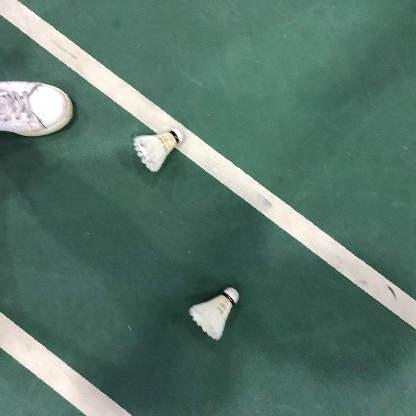ball_single: (189, 287, 239, 340), (132, 129, 185, 172)
